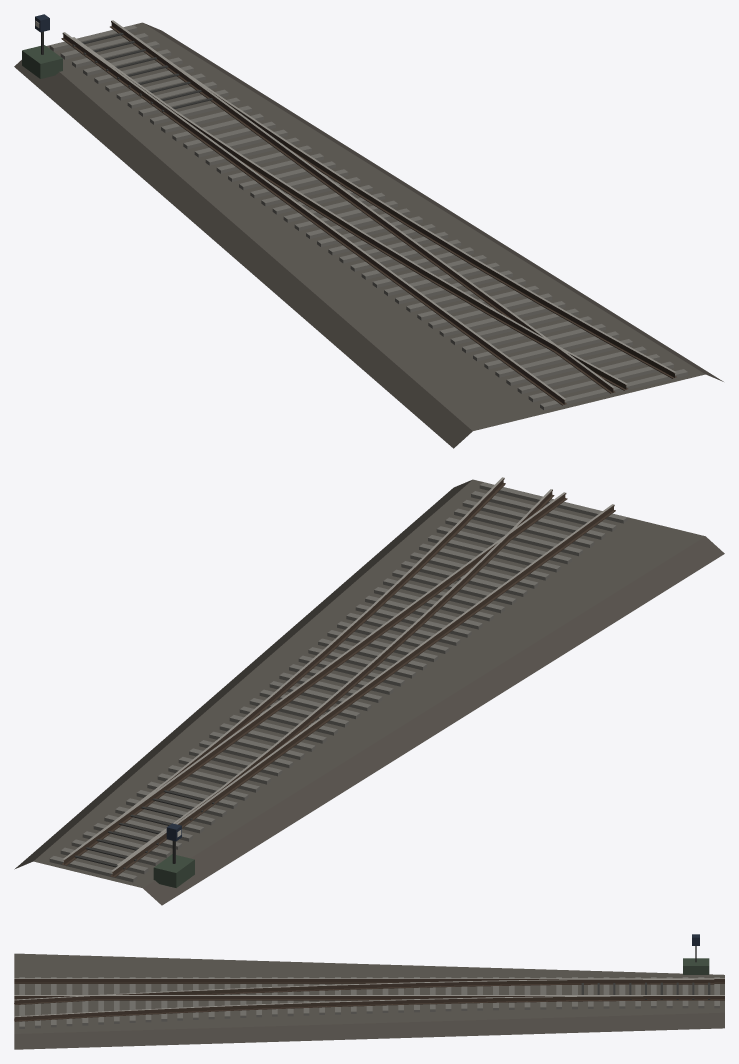
File: tor-rozjazd-1-9.glb
The picture shows the model from 3 angles, top to bottom: view 1: azimuth 30°, elevation 25°; view 2: azimuth 150°, elevation 25°; view 3: azimuth 270°, elevation 25°; orthographic projection. The views are drawn at different scales.
Parts seen in each view (by area): view 1: tor-rozjazd-1-9; view 2: tor-rozjazd-1-9; view 3: tor-rozjazd-1-9.
Part boxes in pixels (x1,y1,x2,y2): tor-rozjazd-1-9: (14,14,723,448); tor-rozjazd-1-9: (14,477,724,905); tor-rozjazd-1-9: (14,934,724,1049).
Size of the model in its own units: 8.44 by 1.85 by 27.01.
